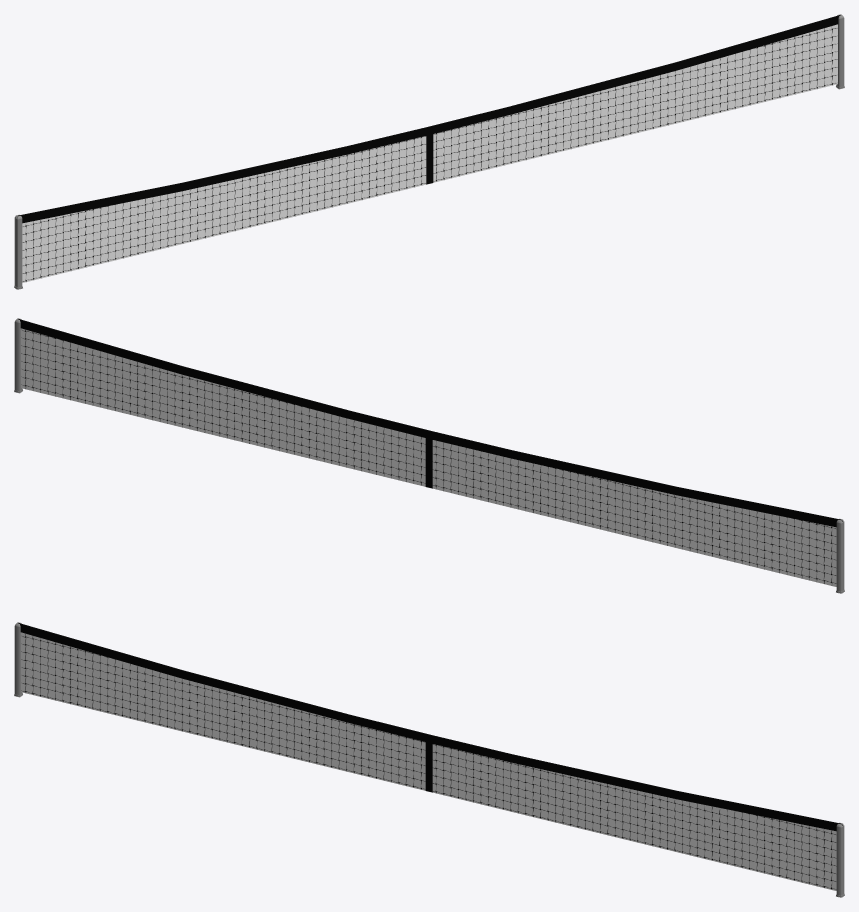
The model's file is tennis_net.FBX.
3 renders of one model, top to bottom at view 1: azimuth 30°, elevation 25°; view 2: azimuth 150°, elevation 25°; view 3: azimuth 330°, elevation 25°, orthographic.
Parts seen in each view (by area): view 1: tennis_net; view 2: tennis_net; view 3: tennis_net.
Part boxes in pixels (box(x1,y1,x2,y2)): tennis_net: box(14, 14, 844, 289); tennis_net: box(14, 318, 844, 593); tennis_net: box(14, 622, 844, 897).
Bounding box in the file's own units: 12.9 × 1.08 × 0.0966.
